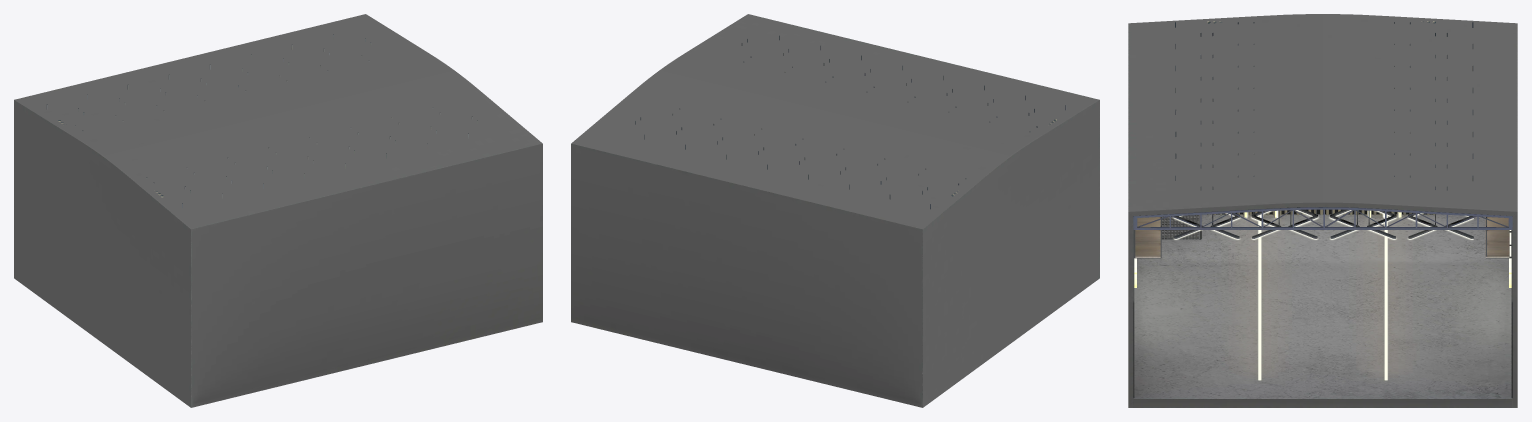
Rendered from Auto haven.glb.
3 views of the same model, side by side, from view 1: azimuth 30°, elevation 25°; view 2: azimuth 150°, elevation 25°; view 3: azimuth 270°, elevation 25° (orthographic). The views are drawn at different scales.
Parts seen in each view (by area): view 1: polySurface495001; view 2: polySurface495001; view 3: polySurface495001, Mesh008, Mesh011, car_light_emmis, Mesh009, catcher, top_emmis, Mesh006_2.
Boxes of the visible parts, left/top/right/bottom form: polySurface495001: left=14, top=14, right=542, bottom=407; polySurface495001: left=571, top=14, right=1099, bottom=407; polySurface495001: left=1128, top=14, right=1517, bottom=407; Mesh008: left=1133, top=207, right=1512, bottom=398; Mesh011: left=1133, top=22, right=1512, bottom=258; car_light_emmis: left=1134, top=210, right=1511, bottom=380; Mesh009: left=1133, top=22, right=1512, bottom=397; catcher: left=1173, top=210, right=1473, bottom=239; top_emmis: left=1175, top=210, right=1473, bottom=239; Mesh006_2: left=1207, top=21, right=1435, bottom=215.
Size of what is drawn, in the model's own units: 13.66 by 6.94 by 11.91.
12 materials, 7 textured.
